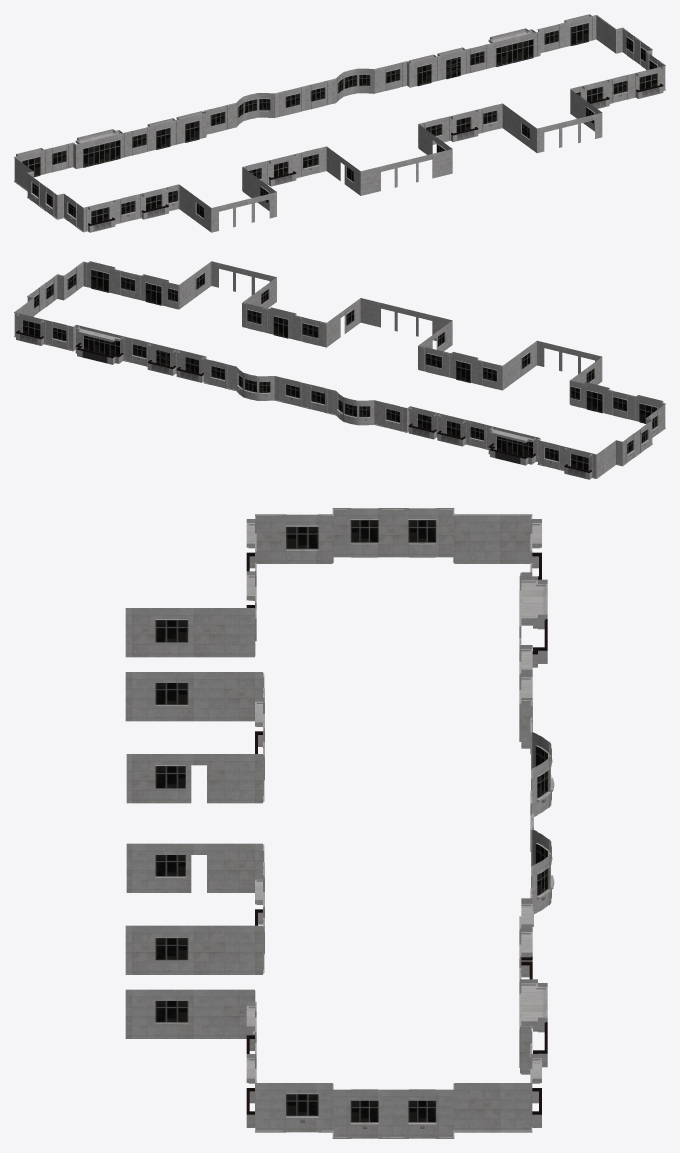
Rendered from BLD-1-Floor-Type-5.FBX.
3 renders of one model, top to bottom at view 1: azimuth 30°, elevation 25°; view 2: azimuth 150°, elevation 25°; view 3: azimuth 270°, elevation 25°, orthographic. The views are drawn at different scales.
Visible parts, largest first — view 1: Exterior-Type-01-017; view 2: Exterior-Type-01-017; view 3: Exterior-Type-01-017.
Part boxes in pixels (left/top/right/bottom): Exterior-Type-01-017: left=14, top=14, right=665, bottom=232; Exterior-Type-01-017: left=14, top=261, right=665, bottom=479; Exterior-Type-01-017: left=125, top=508, right=554, bottom=1138.
Size of the model in its own units: 60.27 by 2.38 by 18.73.
